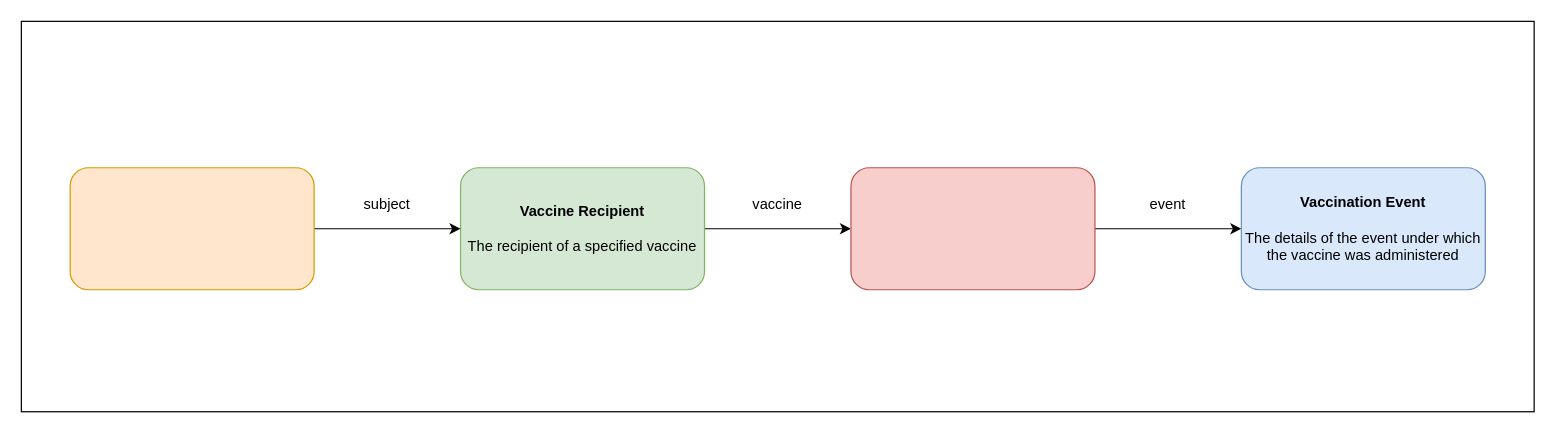
The diagram is 1556 pixels wide and 433 high, and some of its shapes have lost their labels. The box of each missing label's shape, as (x1, y1, x2, y2) in pixels:
Vaccination Certificate A certificate representing the vaccination event: (69, 167, 314, 290)
Vaccine The details of the vaccine: (850, 167, 1095, 290)
